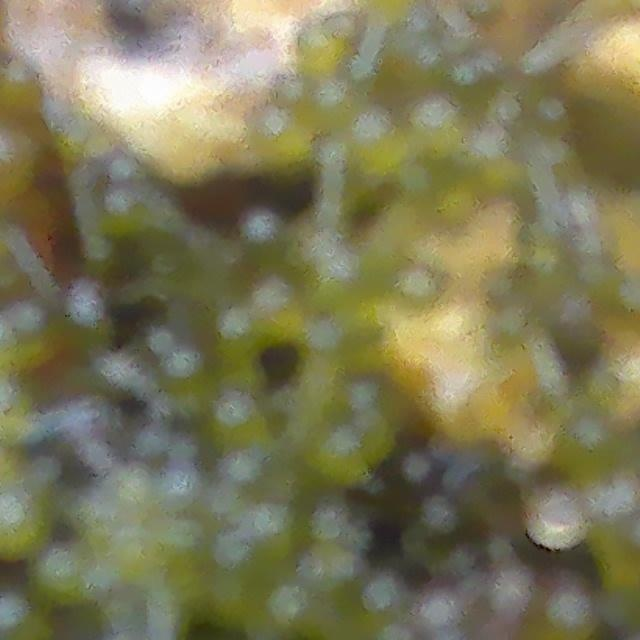SeaGrape: (529, 490, 585, 548)
